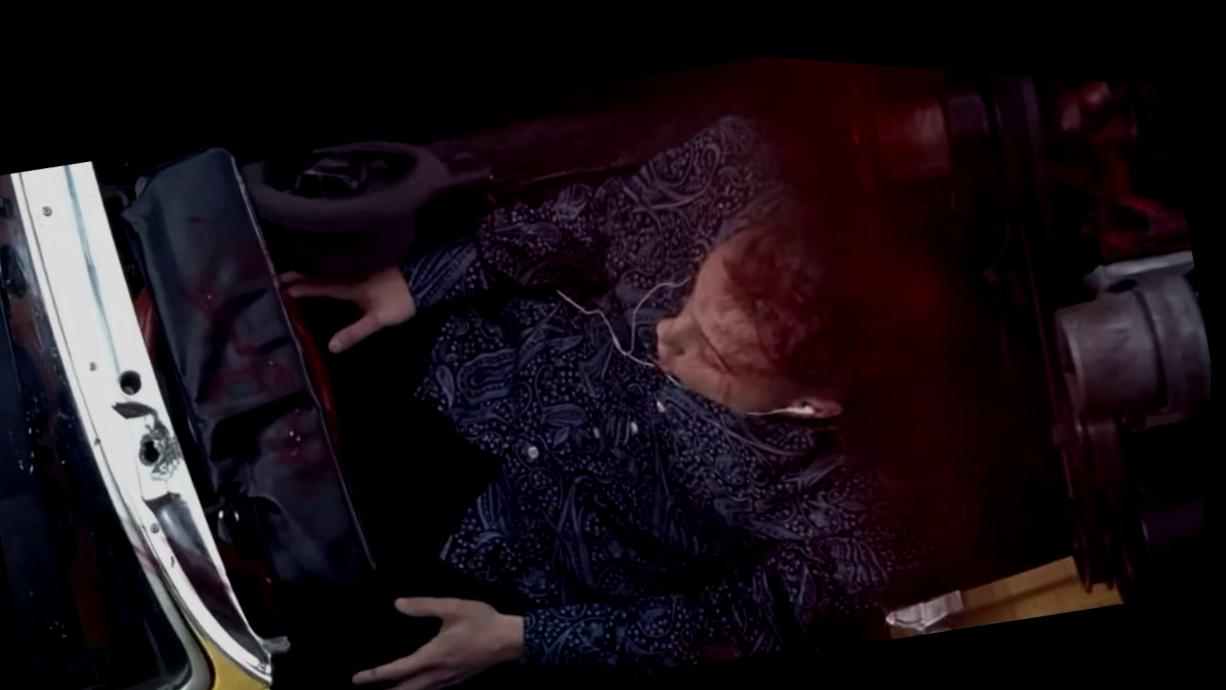Fire: (726, 45, 1076, 590)
